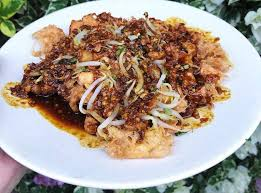Tahu telor: (3, 12, 234, 160)
